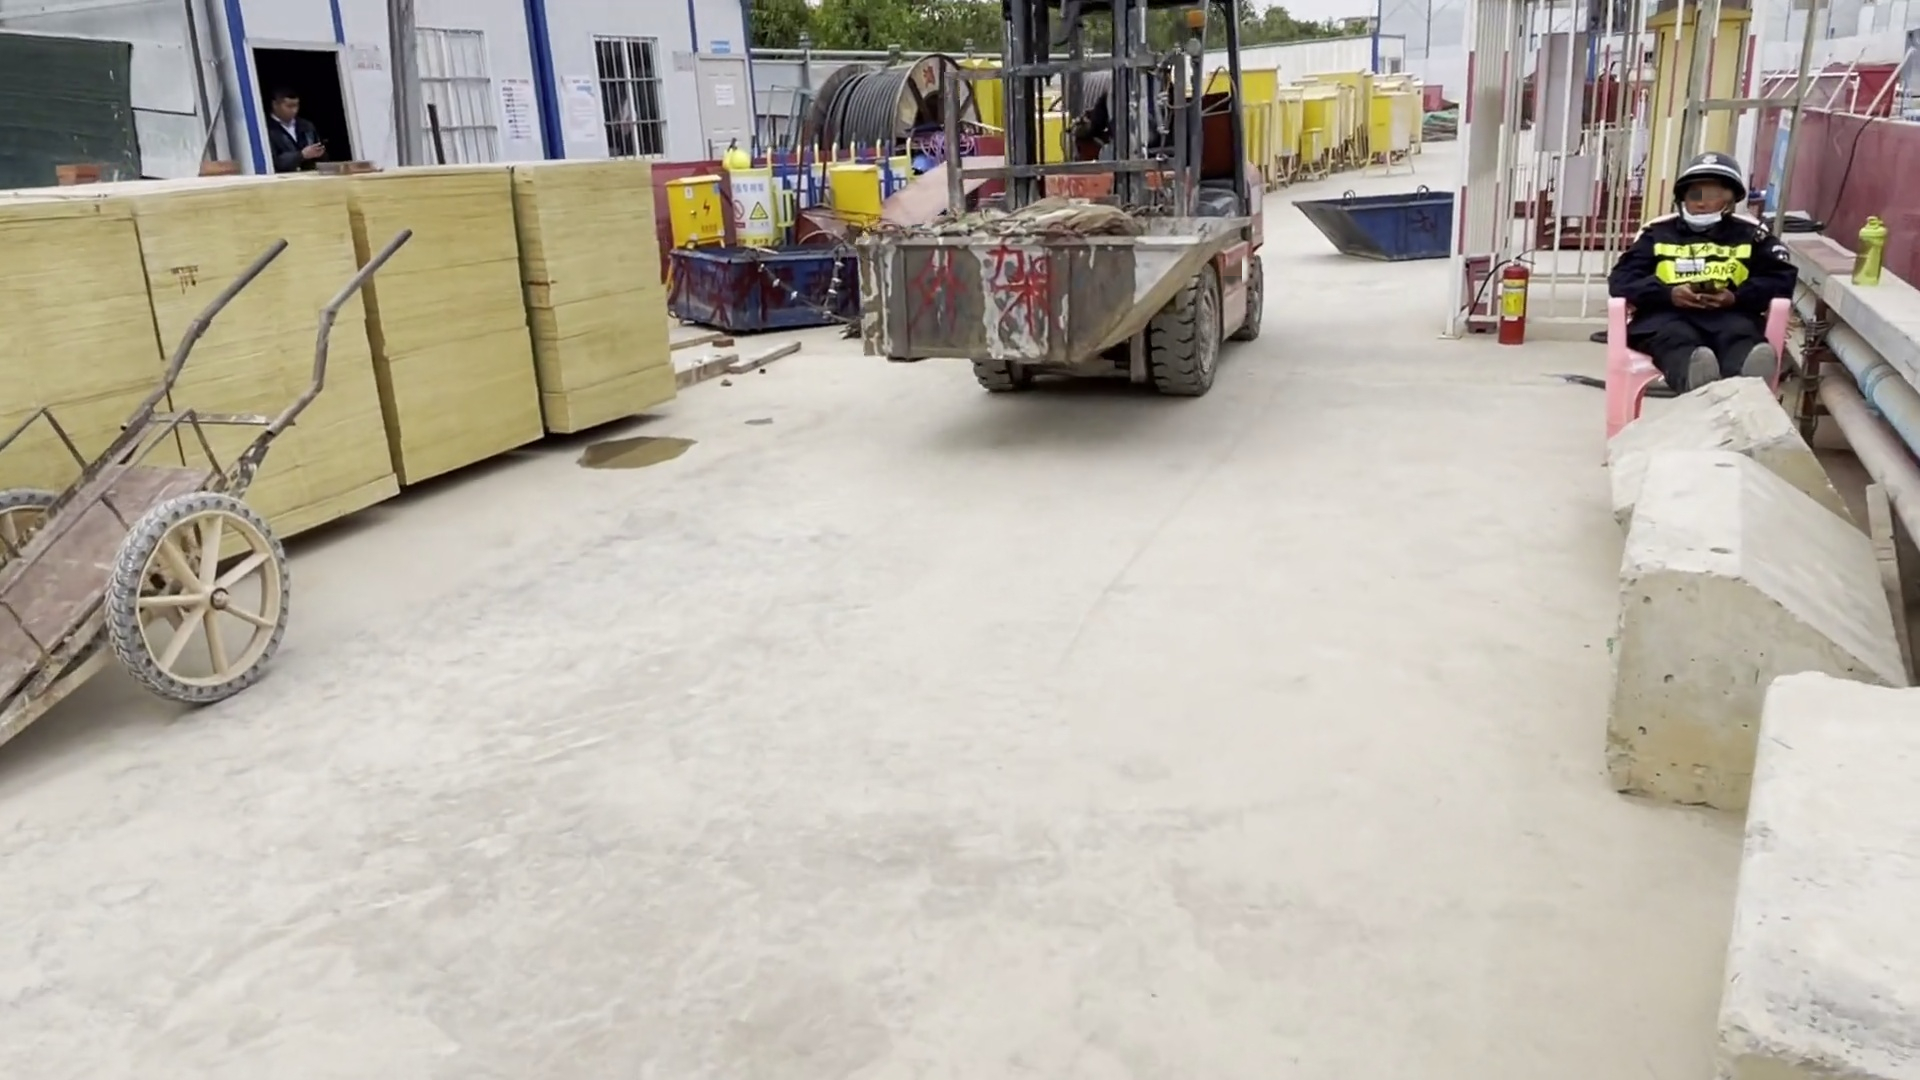ebox: (667, 170, 729, 261), (1361, 95, 1414, 175), (827, 170, 880, 226), (1297, 128, 1327, 178)
handcart: (1, 220, 418, 769)
helmet: (1671, 149, 1744, 193)
hopper: (849, 216, 1220, 367), (661, 256, 842, 327), (1297, 189, 1453, 265)
person: (1611, 146, 1801, 393)
vest: (1643, 224, 1763, 297)
